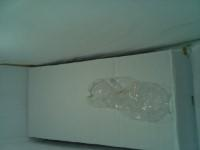bottle: (85, 74, 178, 126)
